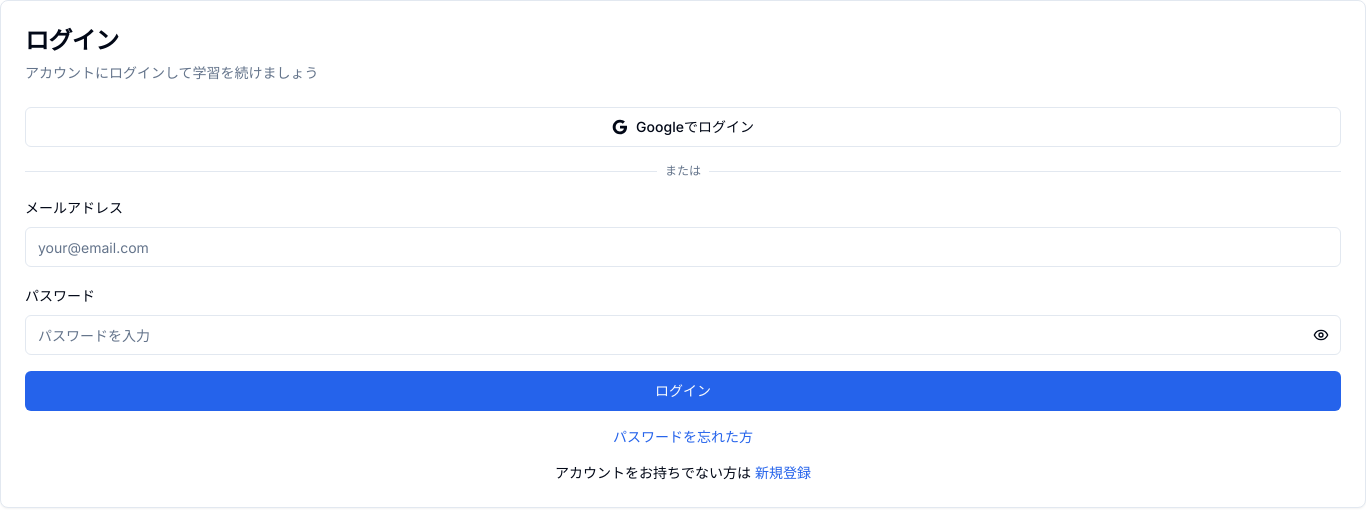
Test: LoginForm › shows loading spinner during Google sign in
Click the button "Googleでログイン": {"x": 683, "y": 127} [25,107,1341,147]
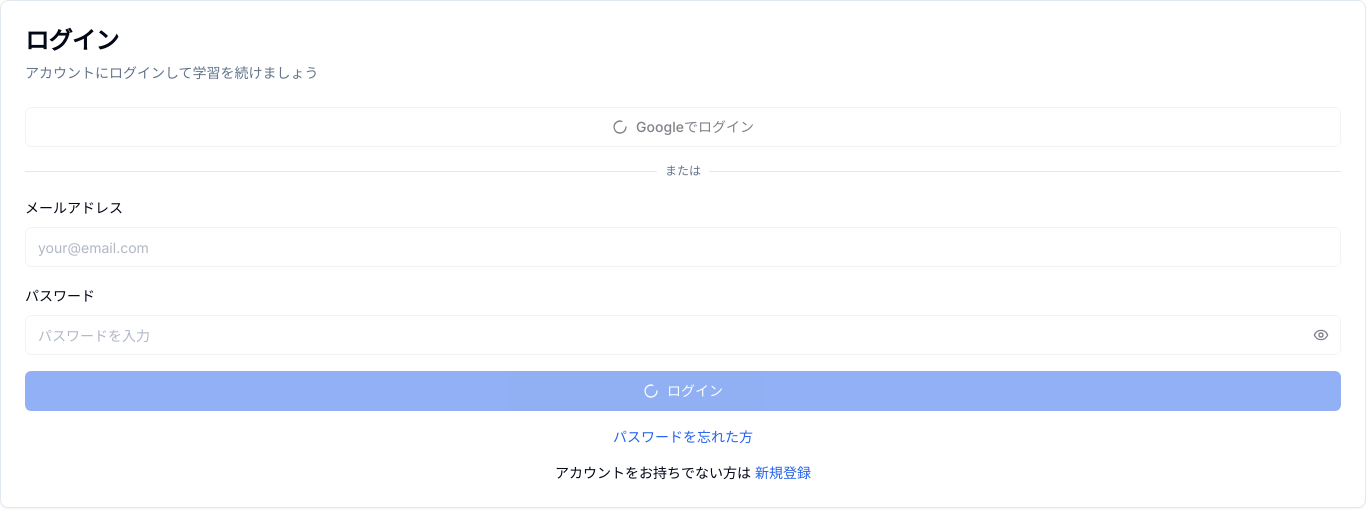
Expected: the button "Googleでログイン" is disabled, [25,107,1341,147]
